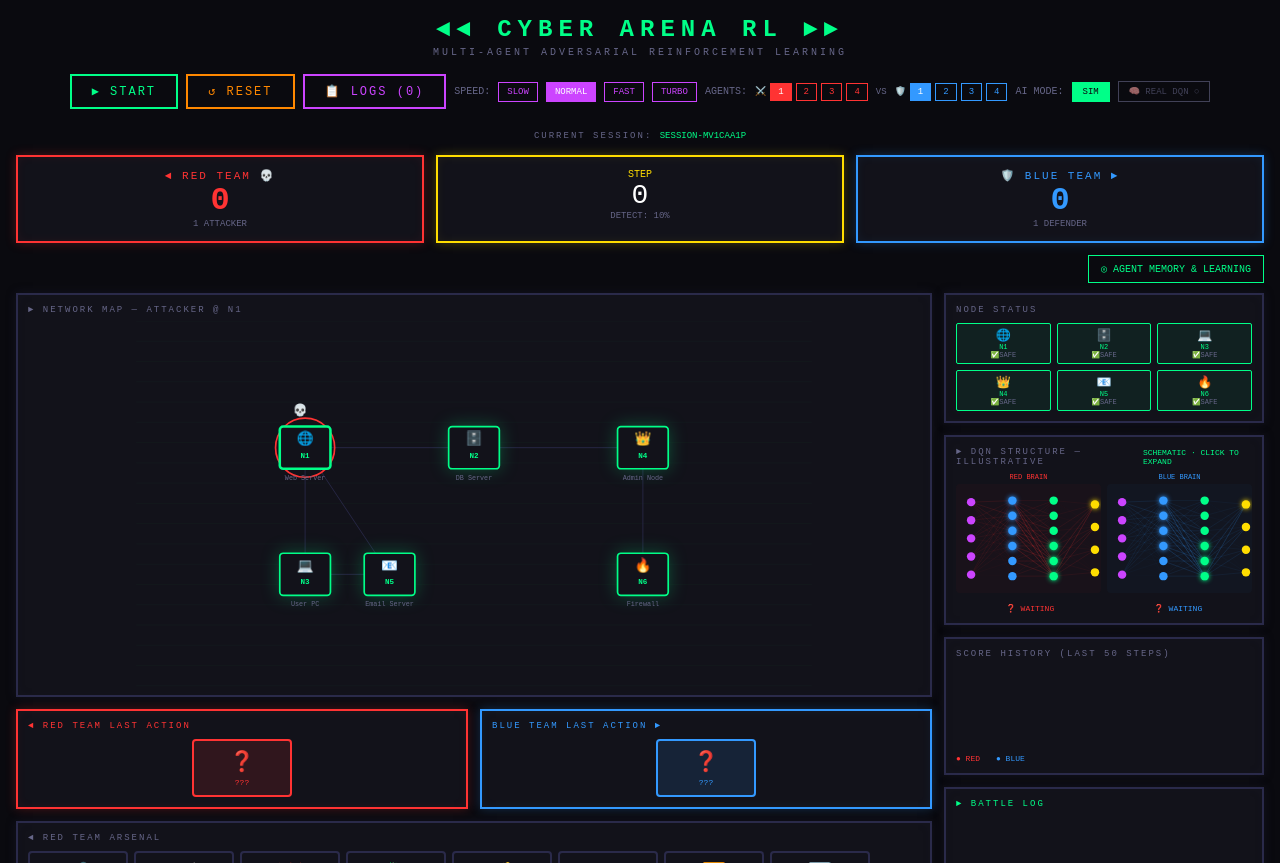
Test case: opens memory panel and displays persisted outcome metrics
Click the button "◎ AGENT MEMORY & LEARNING". click: (1176, 269)
box: [1088,255,1264,283]
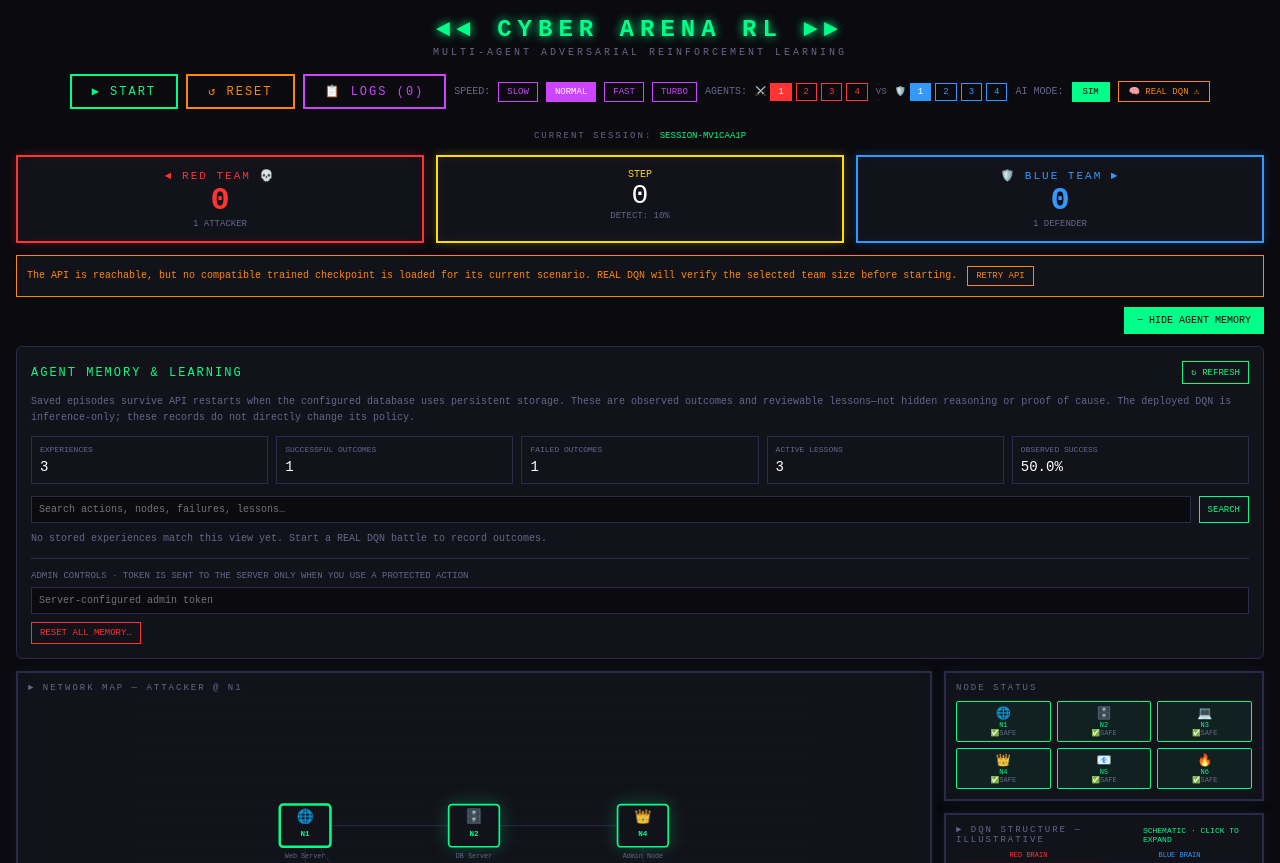
Now the text "SUCCESSFUL OUTCOMES" is shown, box [285,445,376,454]
Now the text "50.0%" is shown, box [1021,459,1063,475]
